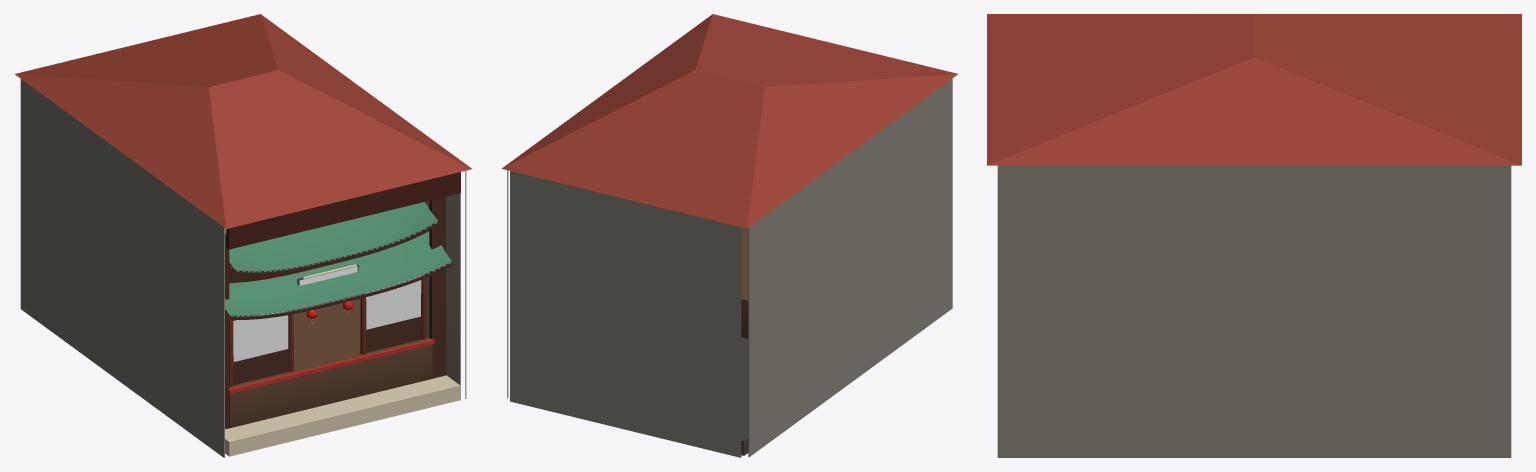
The model's file is stage.lod0.glb.
3 views of the same model, side by side, from view 1: azimuth 30°, elevation 25°; view 2: azimuth 150°, elevation 25°; view 3: azimuth 270°, elevation 25° (orthographic). The views are drawn at different scales.
Visible parts, largest first — view 1: stage-lod0; view 2: stage-lod0; view 3: stage-lod0.
Boxes of the visible parts, x1=… form: stage-lod0: x1=15, y1=14, x2=471, y2=457; stage-lod0: x1=501, y1=14, x2=957, y2=457; stage-lod0: x1=987, y1=14, x2=1521, y2=457.
Size of the model in its own units: 10.2 by 10.9 by 15.2.
